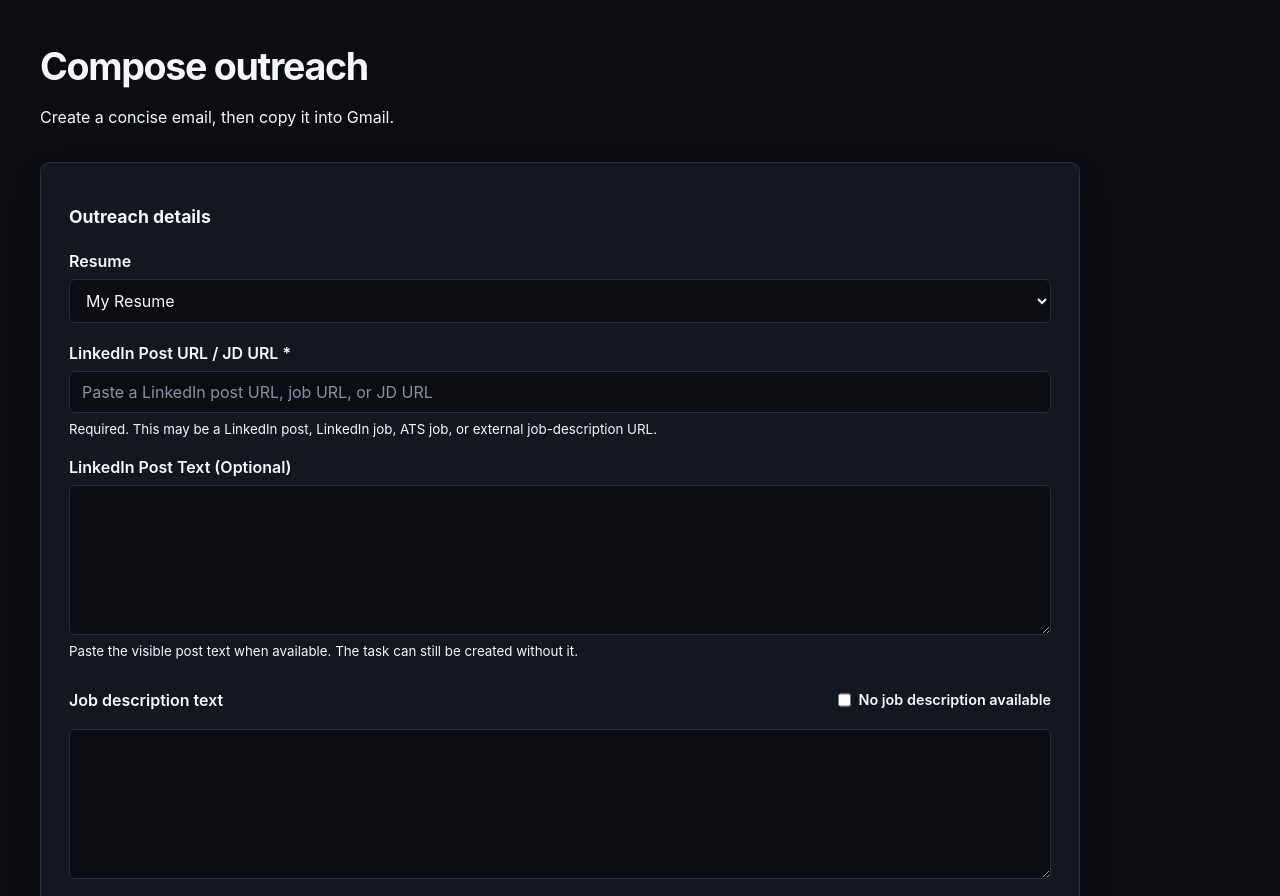
OutreachPage › shows a safe generation error
Type "https://jobs.example.com/role" into the field labelled "LinkedIn Post URL / JD URL *" at x=560, y=392, box [69, 371, 1051, 413]
(page scrolled)
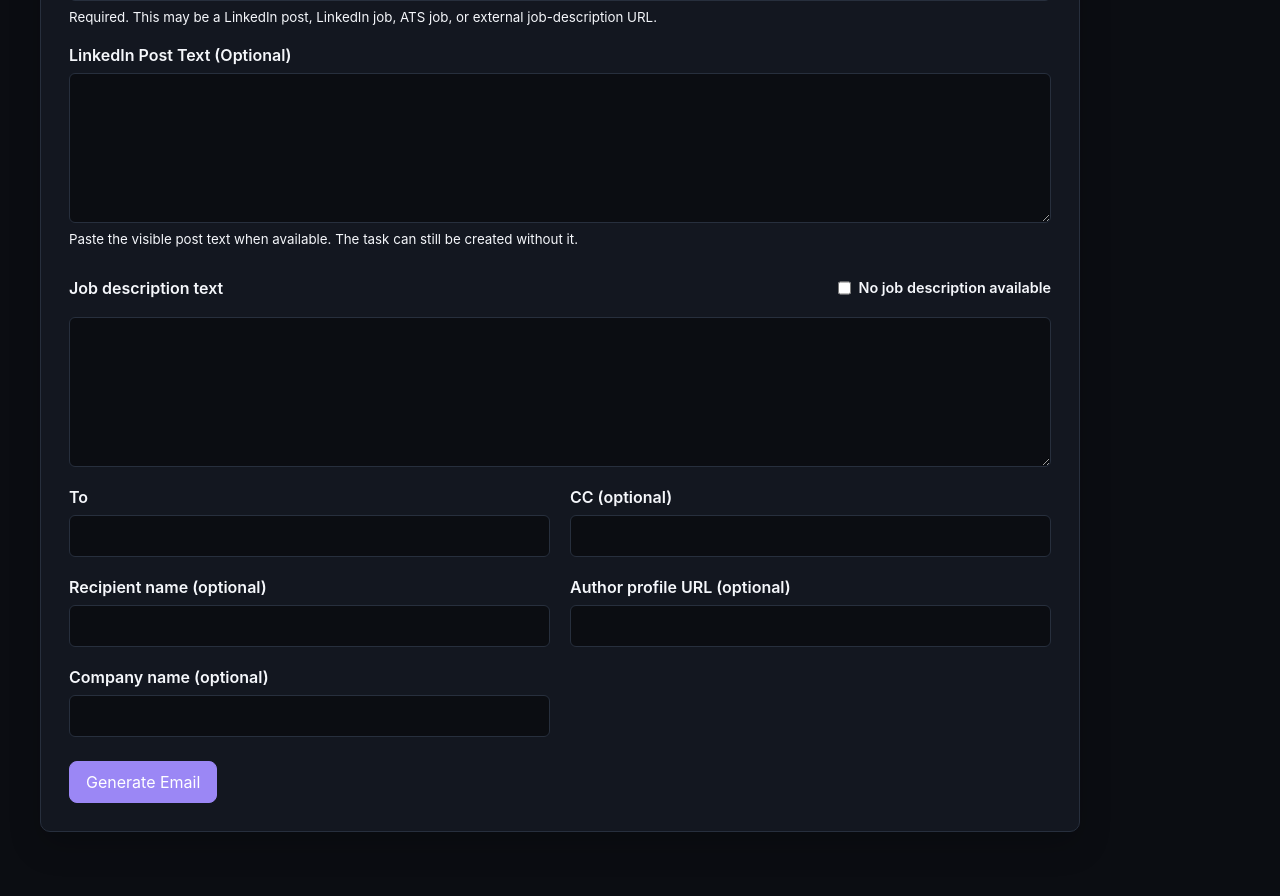
Type "recipient@example.com" into the field labelled "To" at x=310, y=536, box [69, 515, 550, 557]
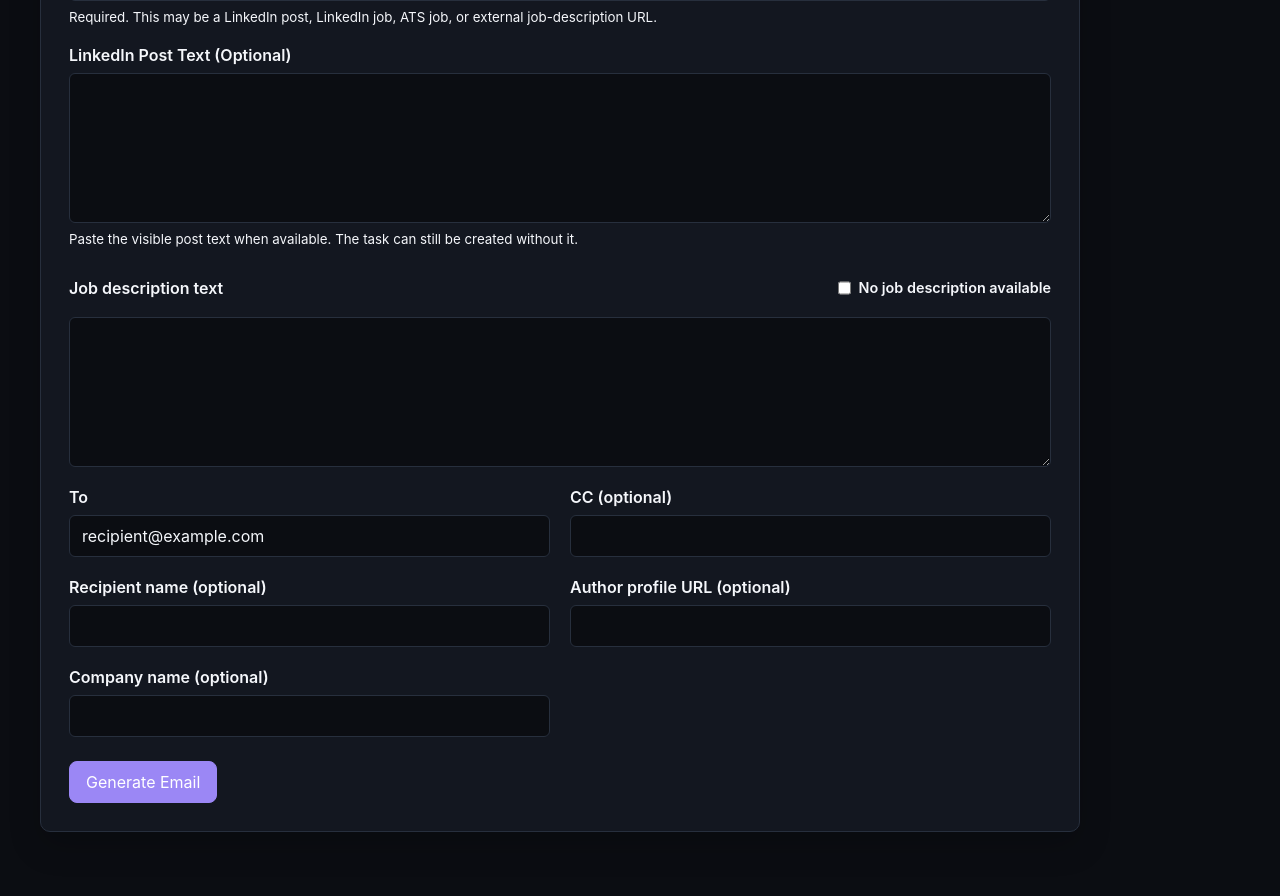
Click the button "Generate Email" at x=143, y=782, box [69, 761, 217, 803]
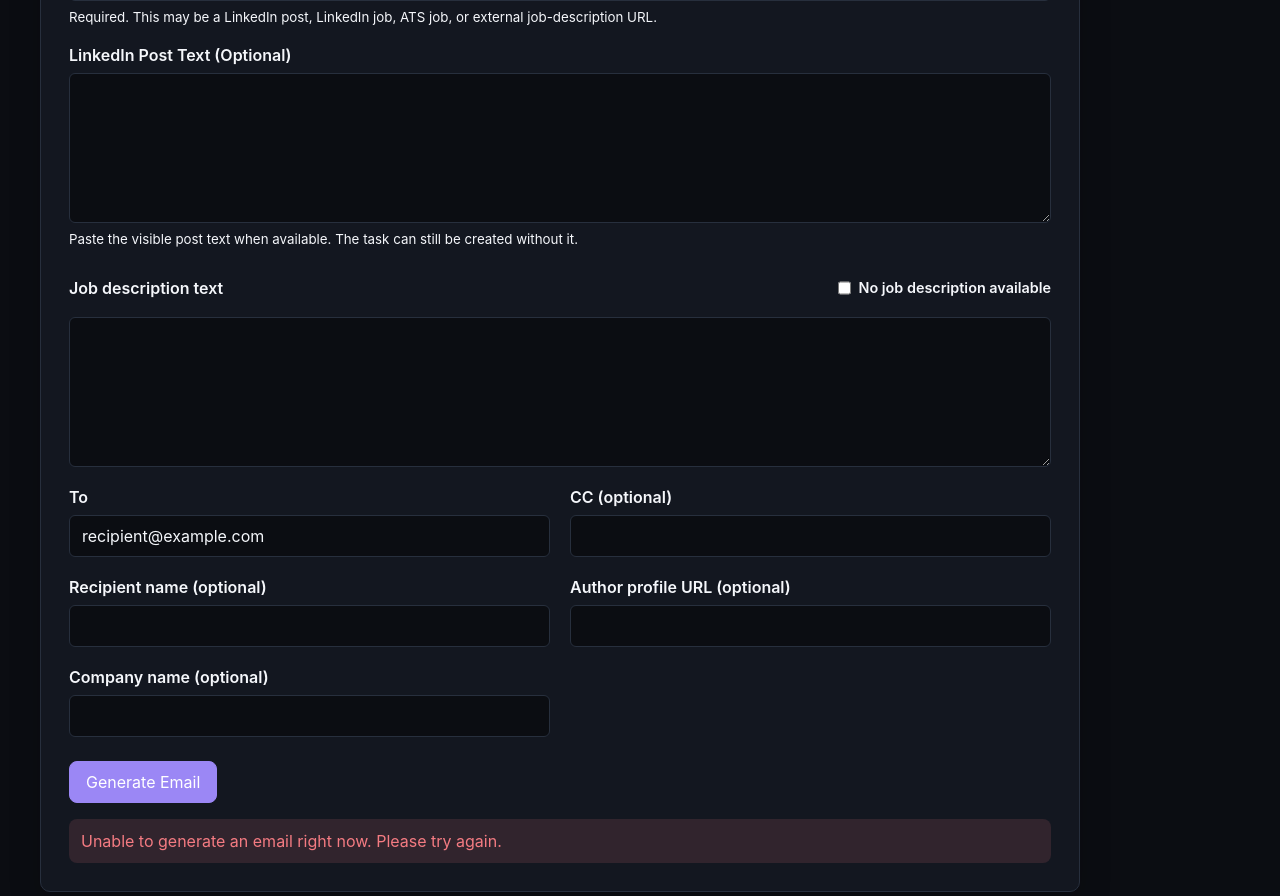
Check: the message shows "Unable to generate an email right now.", box [81, 831, 502, 851]
